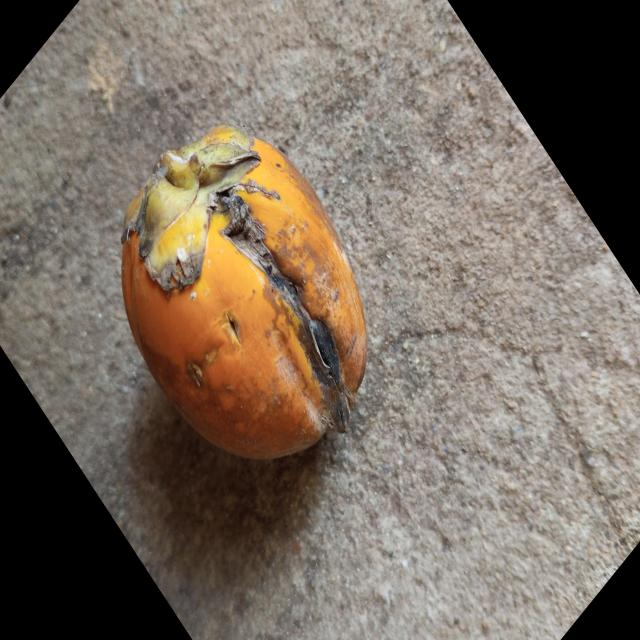damaged: (121, 125, 367, 458)
